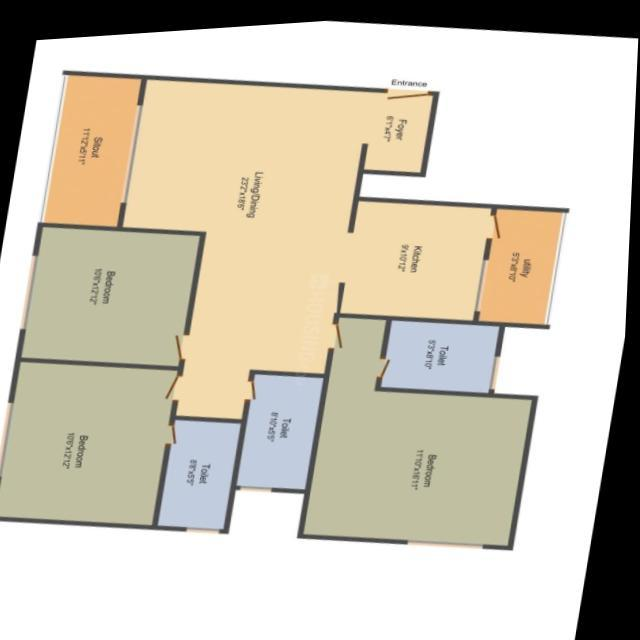Bedroom: (303, 379, 543, 548), (16, 214, 205, 363)
Bedroom with Toilet: (0, 349, 250, 527)
Enterance-Foyer: (364, 70, 443, 171)
Kitchen: (337, 189, 500, 317)
Living: (121, 69, 375, 236)
Toilet: (158, 407, 250, 527), (380, 311, 511, 394), (242, 364, 332, 484)
Utility: (477, 199, 570, 327)
